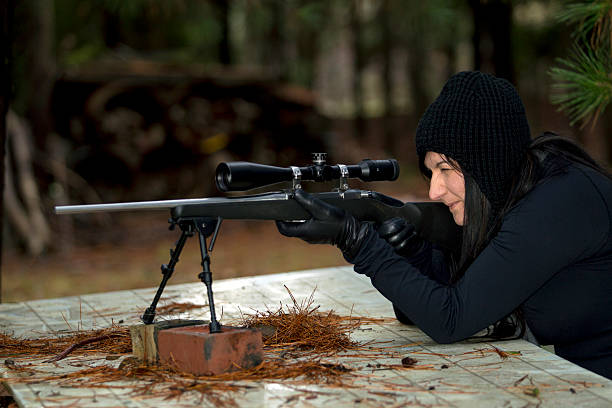gun: (54, 156, 455, 338)
